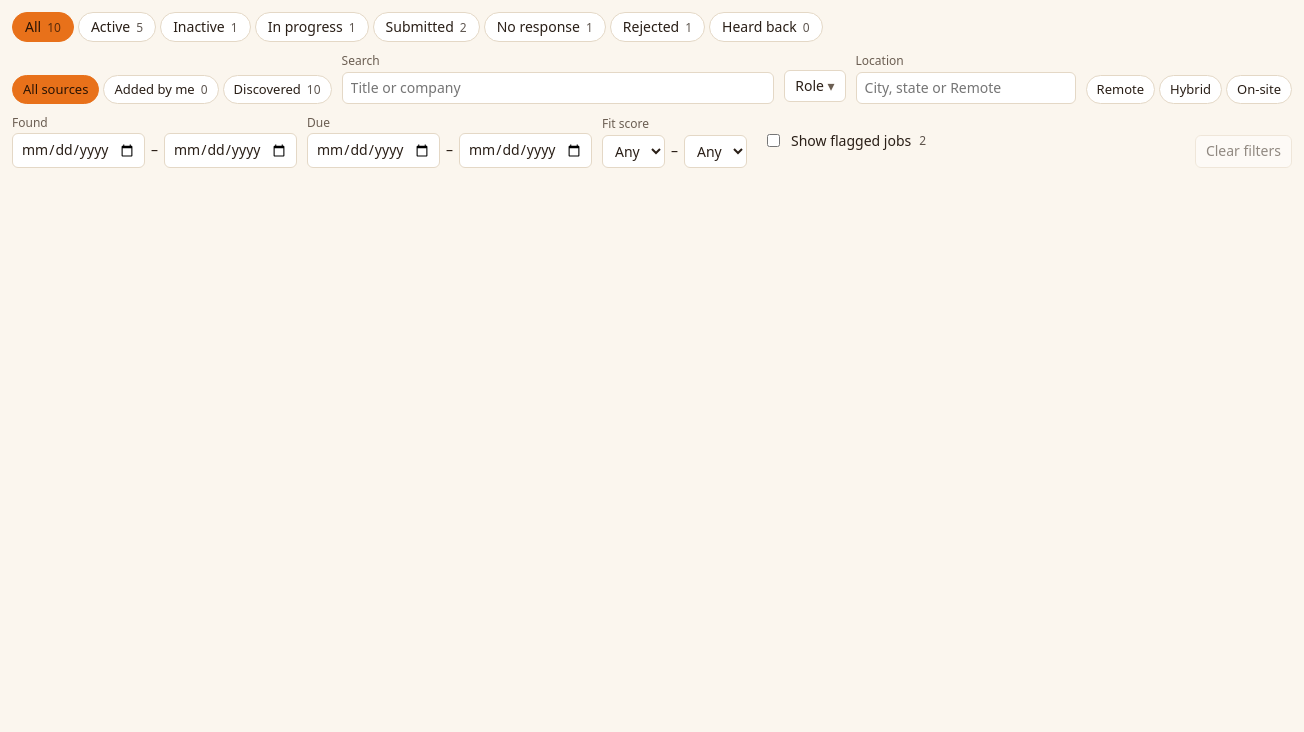
Scenario: Filters › role checkboxes write repeated role params with readable labels
Click the heading "Role". click: (815, 86)
box: [784,70,846,102]
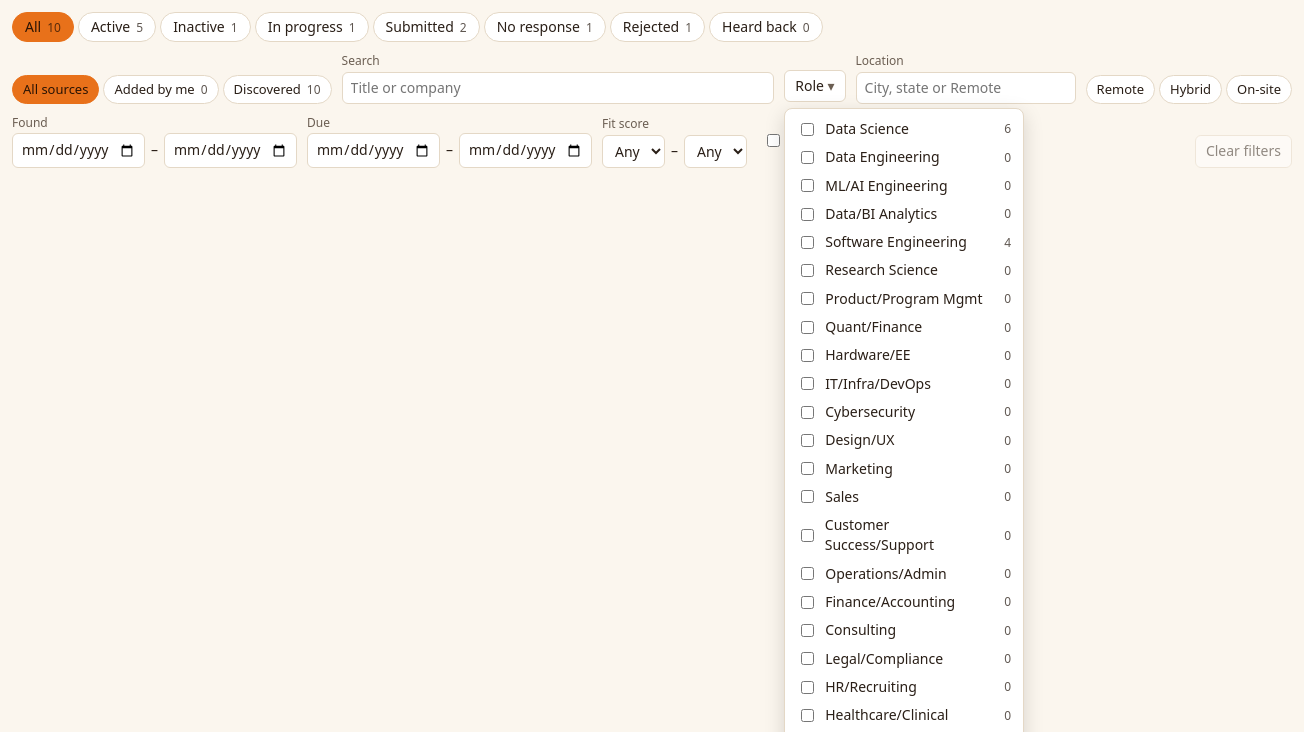
Click the checkbox labelled "Data Science 6". click: (808, 129)
box: [801,123,814,136]
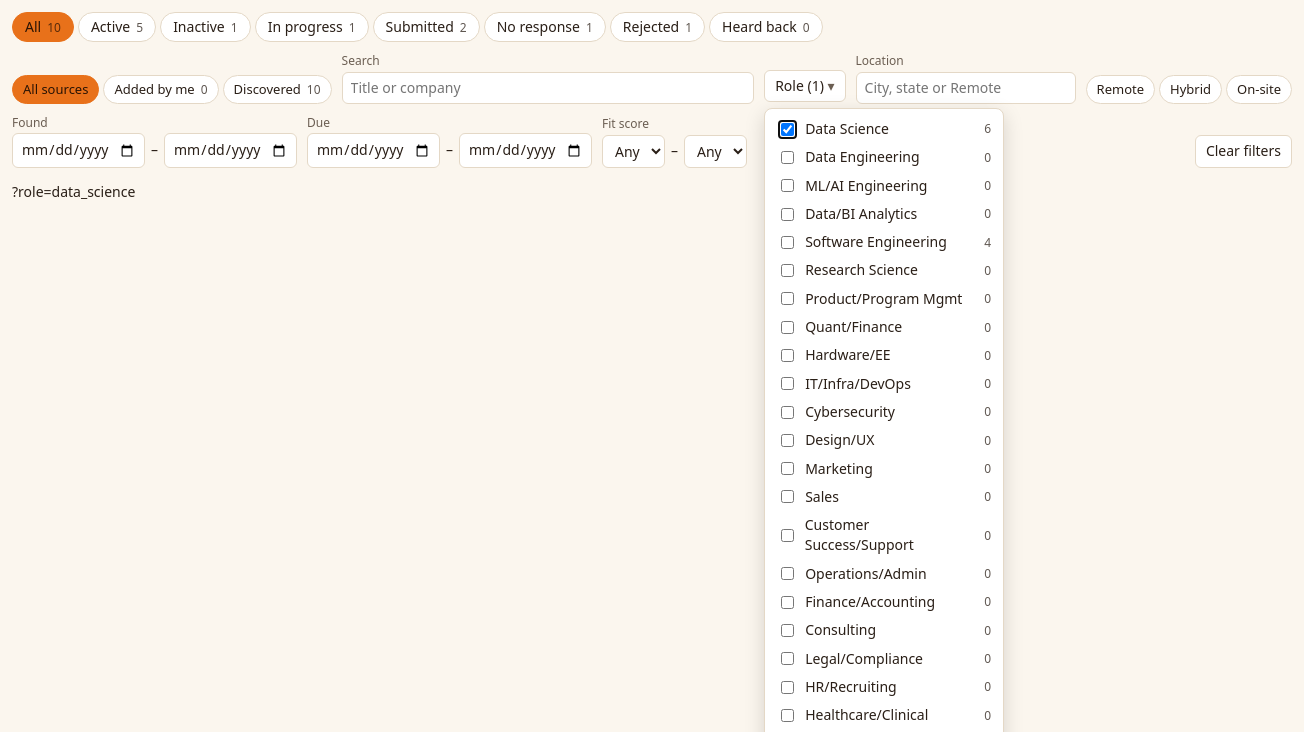
Click the checkbox labelled "ML/AI Engineering 0". click: (788, 186)
box: [781,179,794,192]
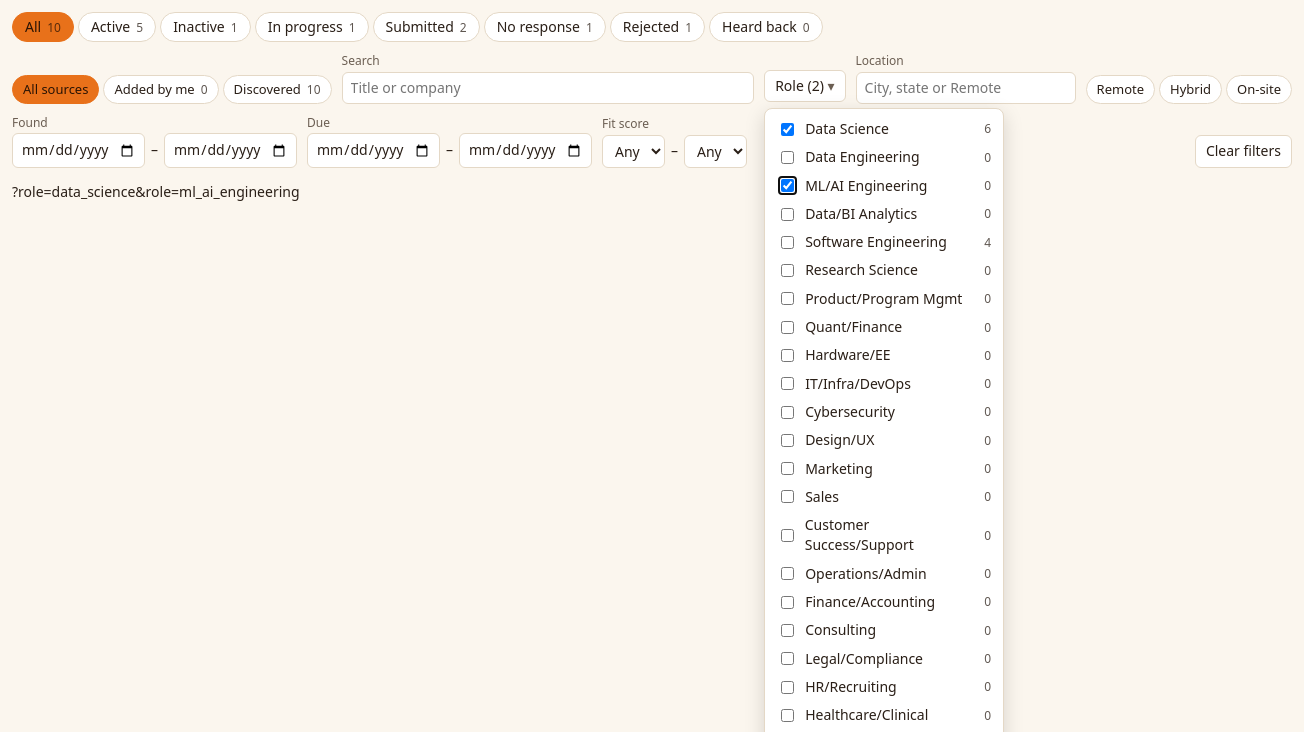
Result: the text with test id "search" reads "?role=data_science&role=ml_ai_engineering" at [12,182,300,201]
Click the checkbox labelled "Data Science 6". click: (788, 129)
box: [781,123,794,136]
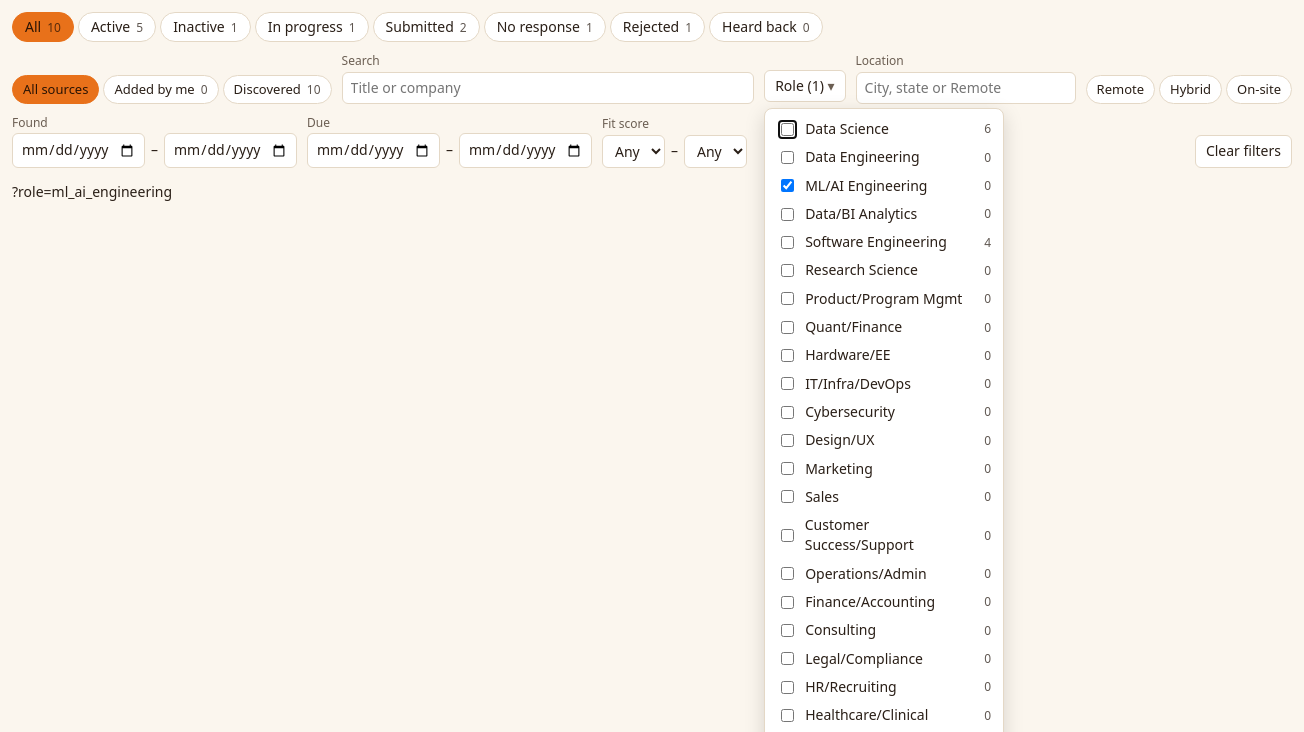
Result: the text with test id "search" reads "?role=ml_ai_engineering" at [12,182,172,201]
